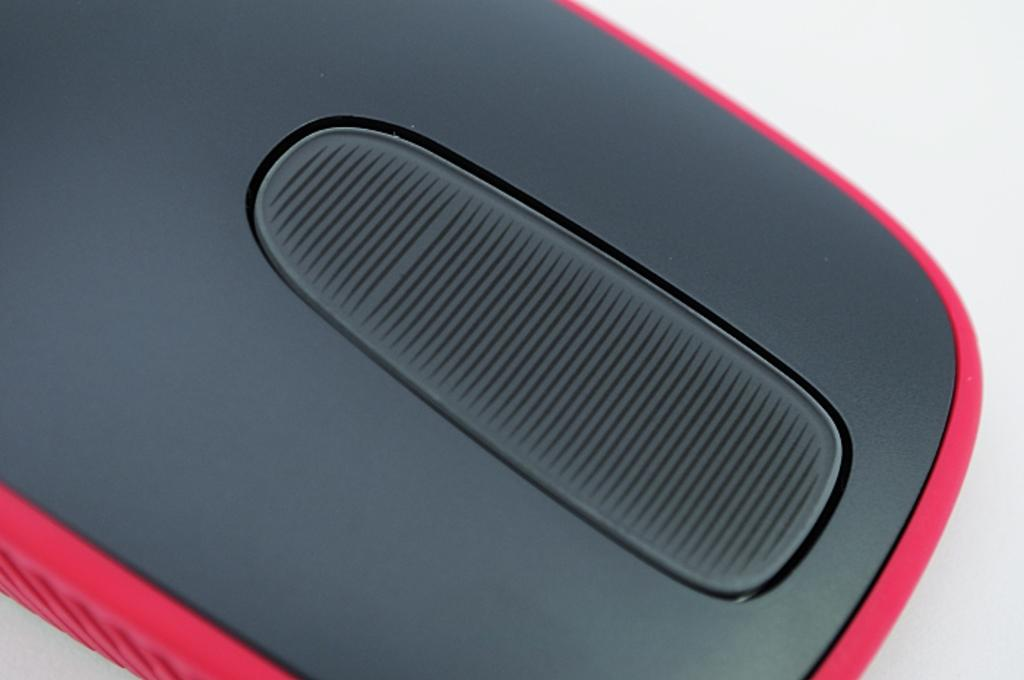Computer-mouse: (0, 0, 986, 679)
